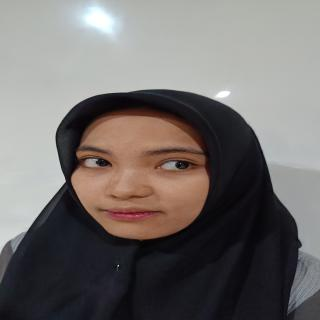Takut: (60, 105, 226, 246)
